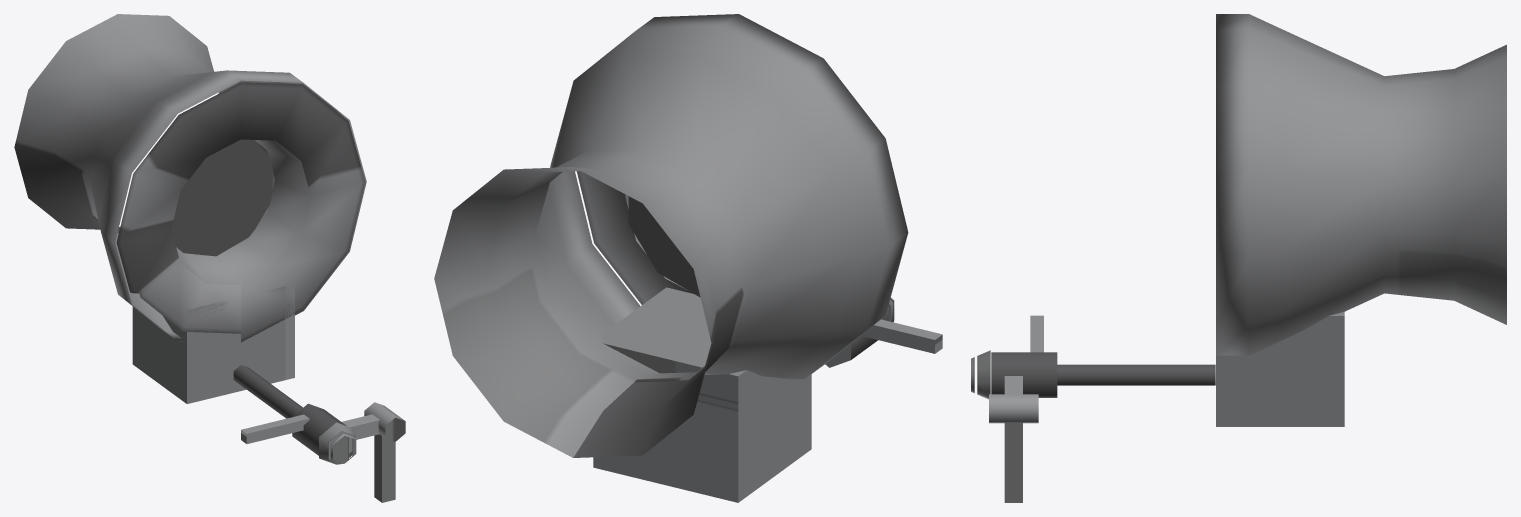
3 views of the same model, side by side, from view 1: azimuth 30°, elevation 25°; view 2: azimuth 150°, elevation 25°; view 3: azimuth 270°, elevation 25° (orthographic). The views are drawn at different scales.
Bounding box in the file's own units: 0.56 × 0.7855 × 0.875.
